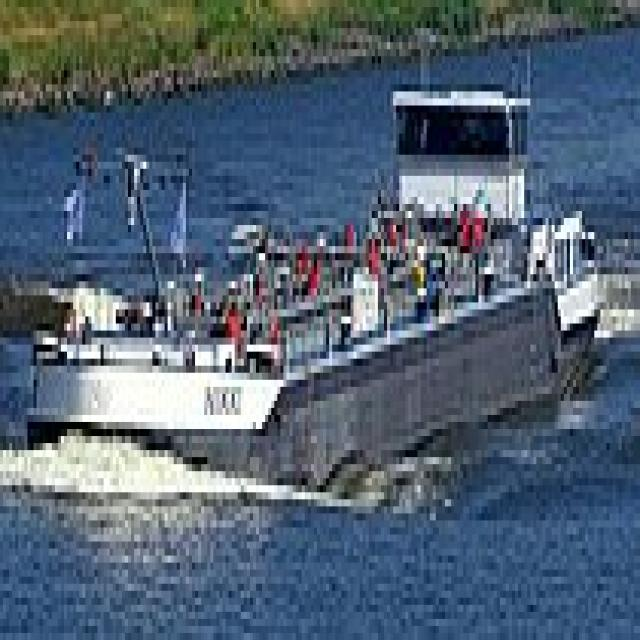Tanker: (3, 21, 600, 478)
